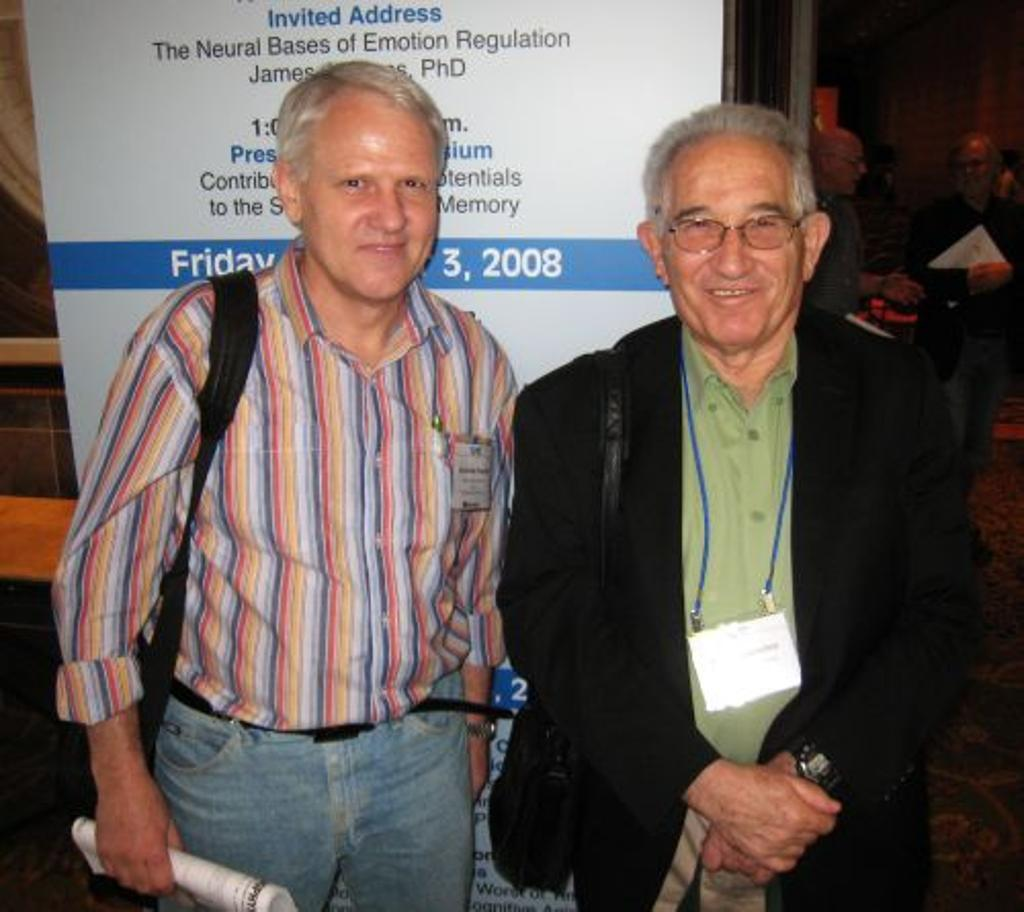face: (660, 158, 802, 345), (302, 122, 438, 300), (831, 134, 866, 194), (952, 142, 990, 194)
